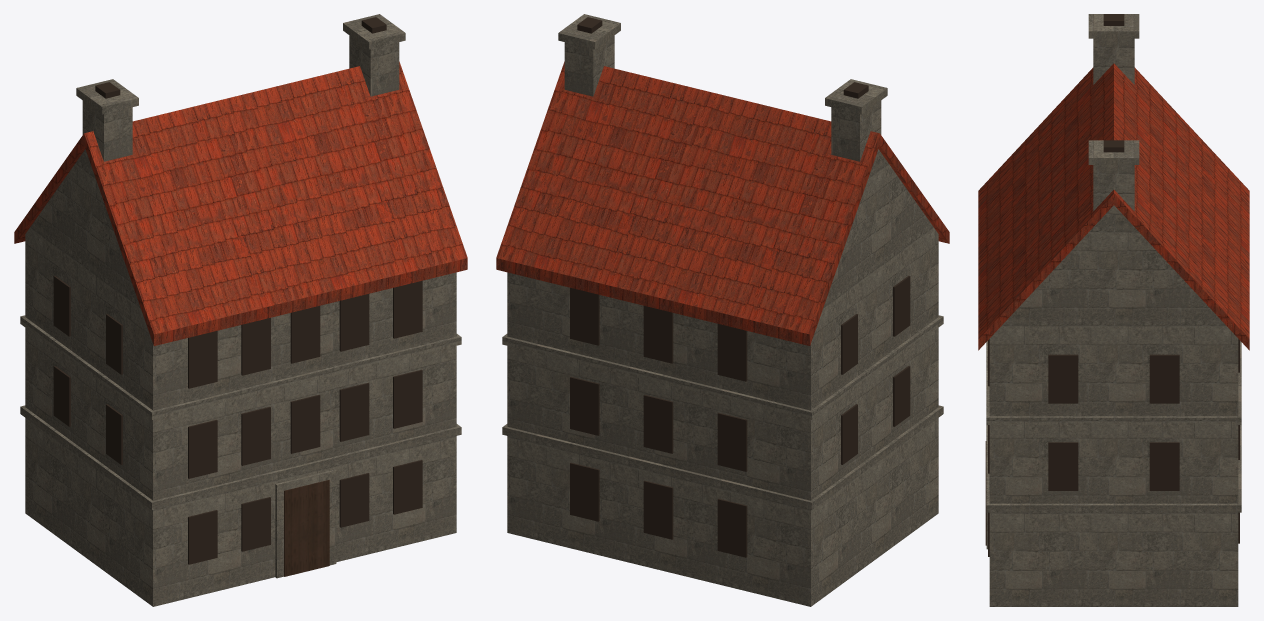
The model's file is townhouse_c.glb.
The picture shows the model from 3 angles, left to right: view 1: azimuth 30°, elevation 25°; view 2: azimuth 150°, elevation 25°; view 3: azimuth 270°, elevation 25°; orthographic projection. The views are drawn at different scales.
Parts seen in each view (by area): view 1: townhouse_c_export; view 2: townhouse_c_export; view 3: townhouse_c_export.
Boxes of the visible parts, x1,y1,x2,y2 form: townhouse_c_export: [14, 14, 467, 606]; townhouse_c_export: [496, 14, 949, 606]; townhouse_c_export: [978, 14, 1249, 606].
Bounding box in the file's own units: 15 × 21.37 × 11.57.
Materials: 4 (3 with a texture image).
